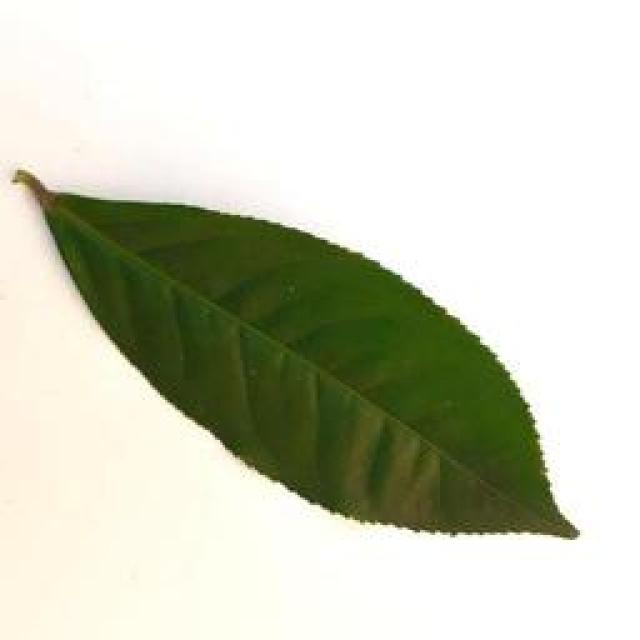Healthy: (7, 166, 586, 547)
